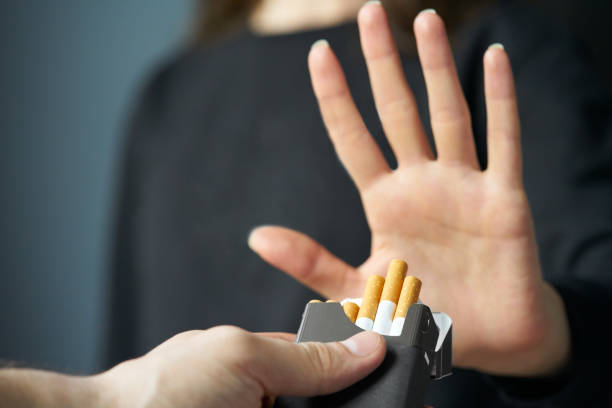cigarette: (270, 297, 454, 408), (372, 258, 409, 335), (389, 275, 423, 335), (353, 273, 385, 332), (339, 302, 360, 324)
